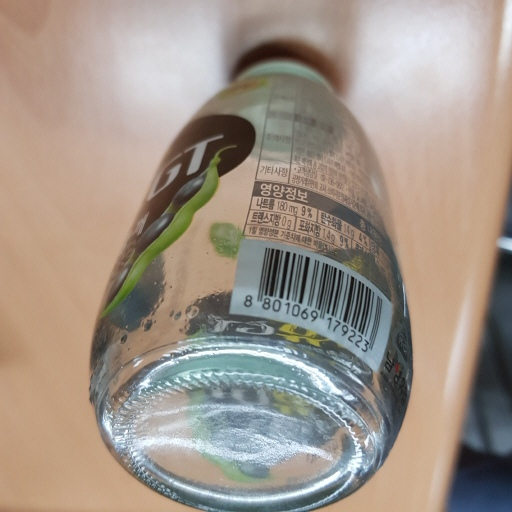Glass_4: (77, 42, 416, 511)
